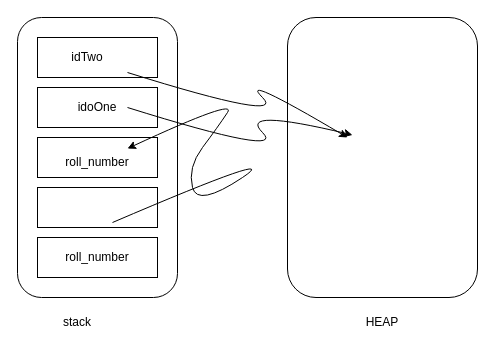
The diagram is 495 pixels wide and 355 high, and some of its shapes have lost their labels. Each missing label, with the centre of its shape:
another_ roll_number: (97,207)
{ 'name':'apple', 'phone':911 }: (382,157)
